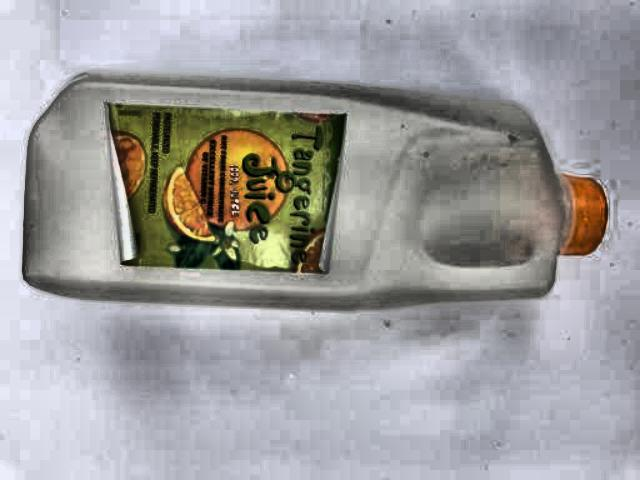Plastic: (19, 72, 628, 321)
